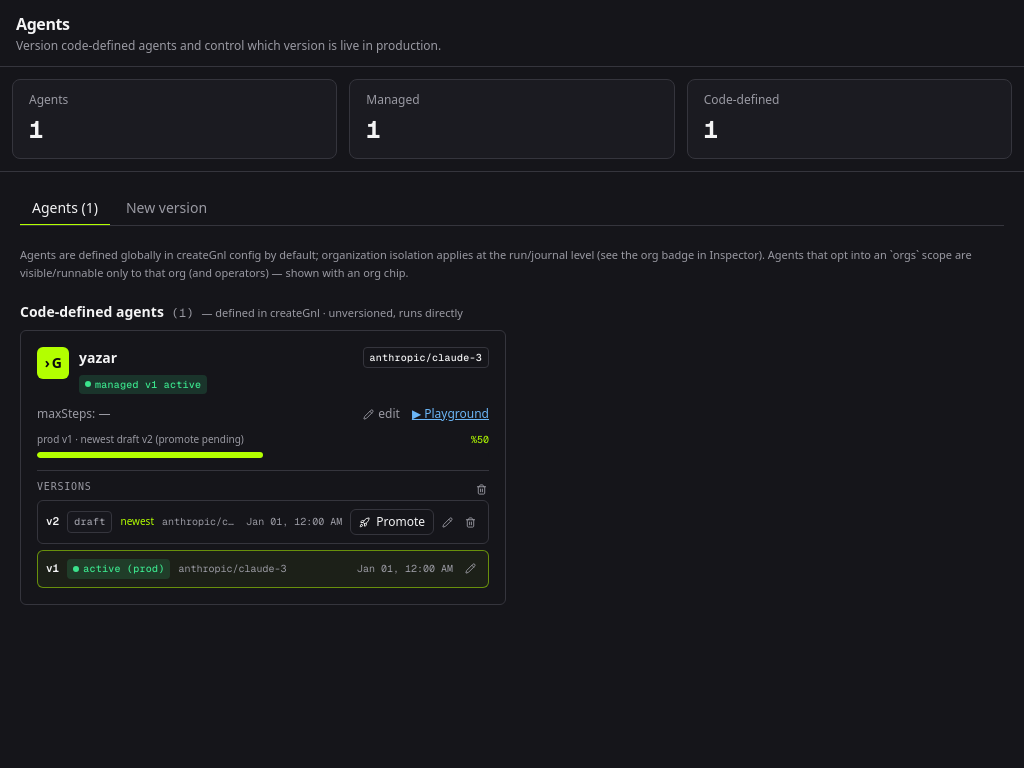
Test: FLOW-11: promote requires confirmation (no more fire-on-click) › canceling the confirm dialog does NOT send a promote request
Expected: the text "yazar" is shown, [79,348,117,368]
Click the button "Promote": (392, 522) [350,509,434,535]
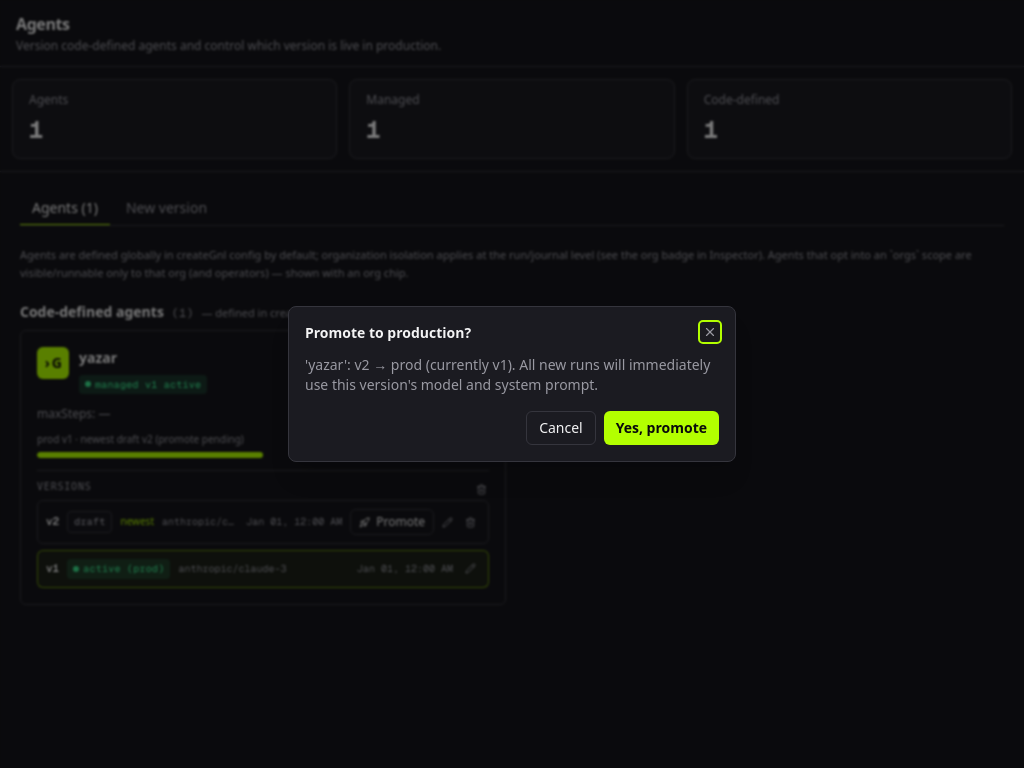
Now the button "Yes, promote" is shown, box [604,411,719,445]
Click the button "Cancel": (561, 428) [526,411,596,445]
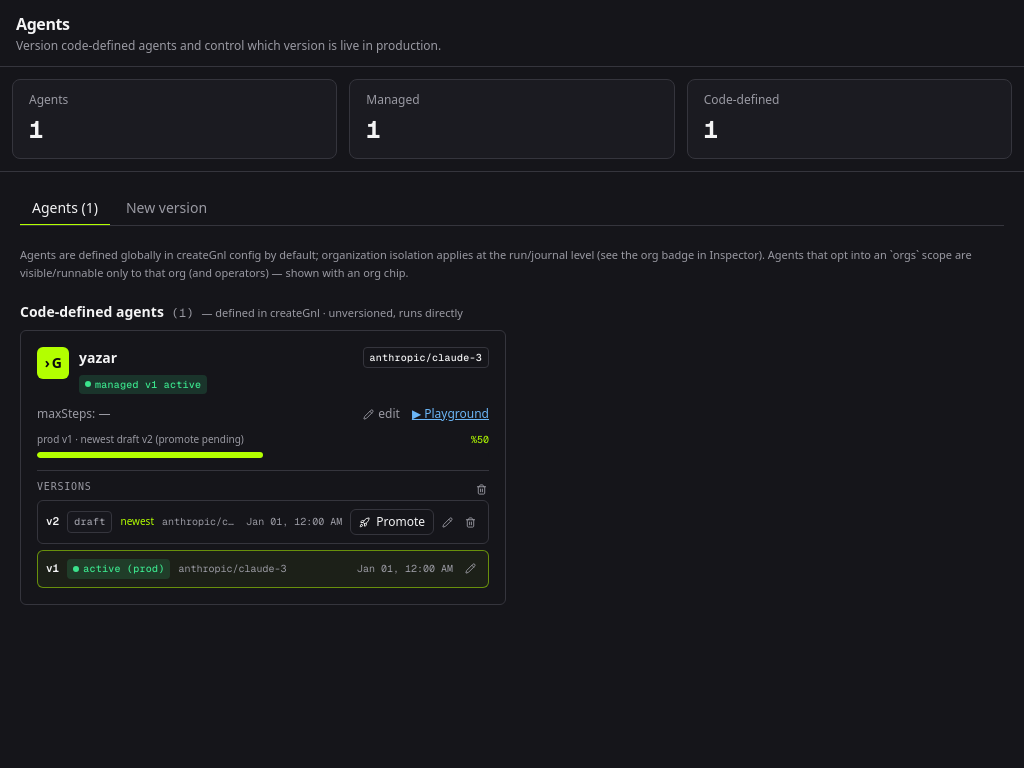
Now the button "Yes, promote" is gone
